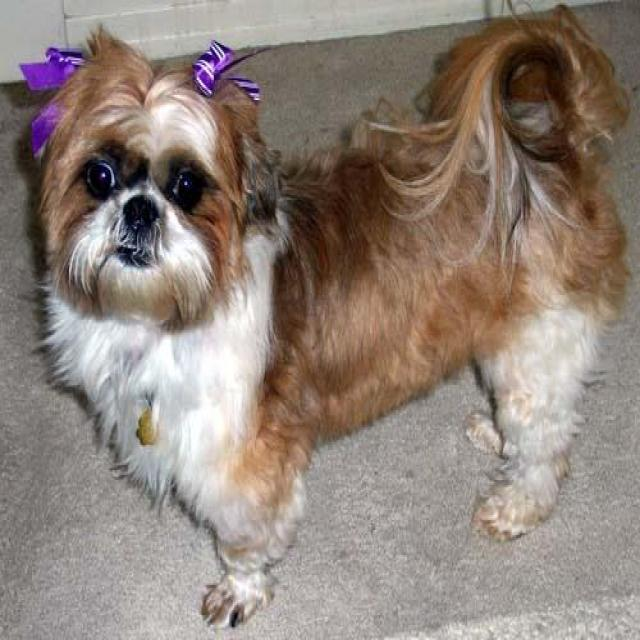Dogs: (24, 1, 634, 632)
